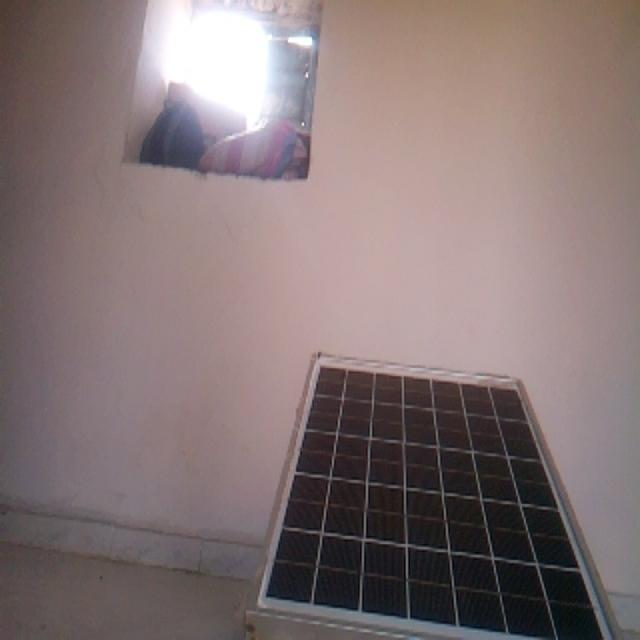Normal Solar Panel: (260, 355, 620, 640)
